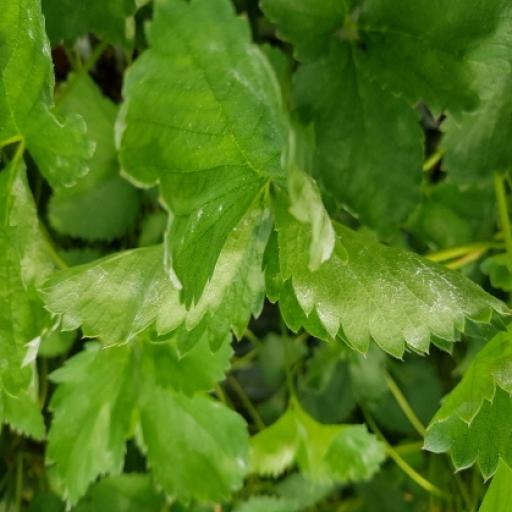Powdery Mildew Leaf: (112, 199, 334, 511), (261, 151, 511, 327), (36, 150, 272, 324), (0, 320, 97, 511), (290, 28, 385, 118)
